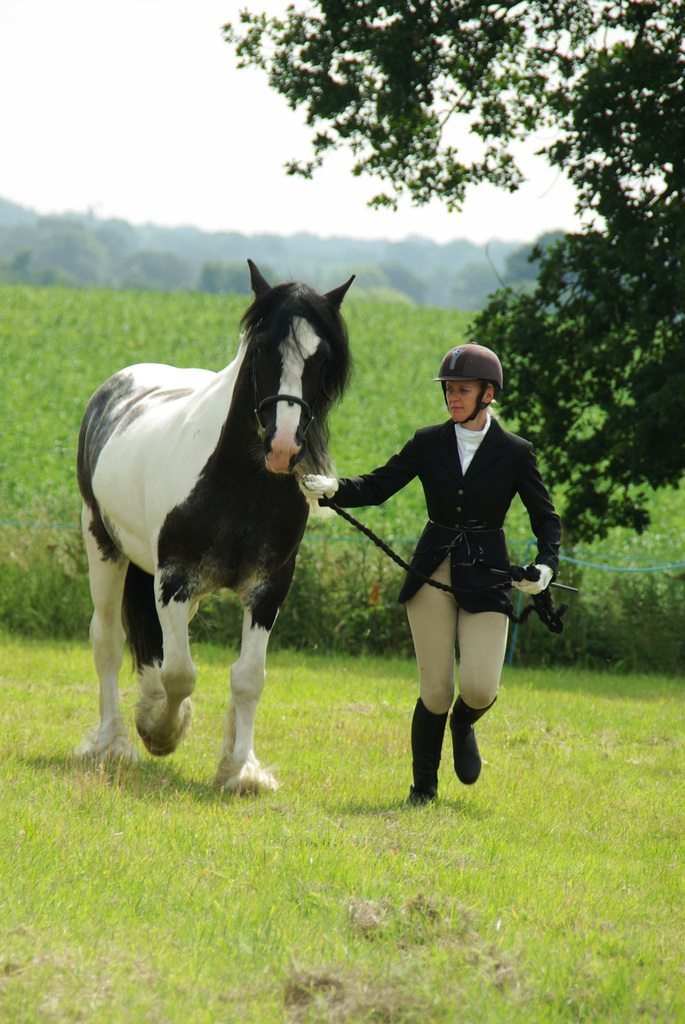horse: (78, 259, 357, 798)
